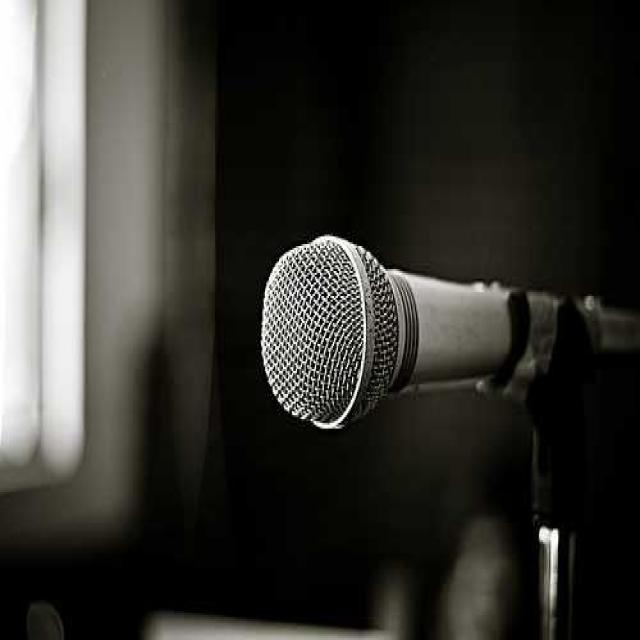microphone: (244, 220, 631, 448)
